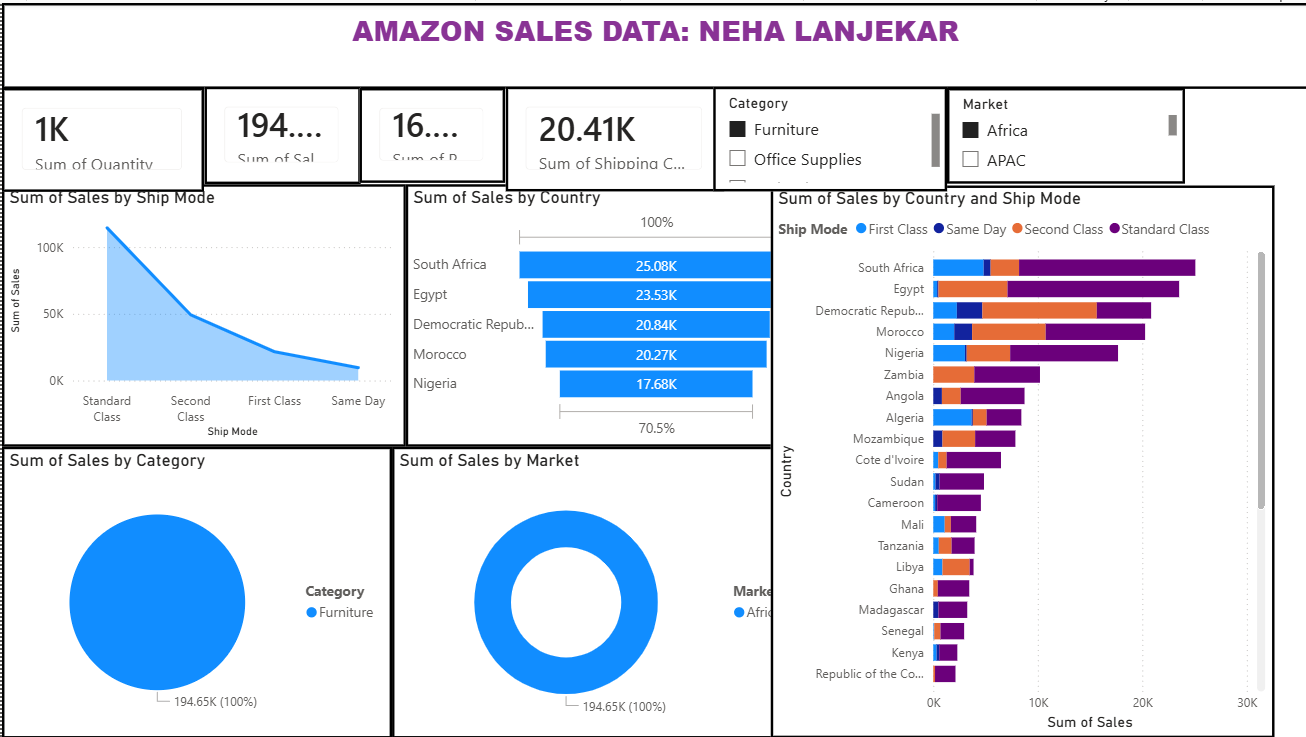

Layout of this report page (visuals, bound fields, positions):
{"tool":"powerbi","page":{"name":"Page 1","canvas":[1280,720],"ordinal":0},"visuals":[{"type":"donutChart","fields":{"Category":["Orders.Market"],"Y":["Sum(Orders.Sales)"]},"box":[381.5,433.6,406.2,286.8],"z":0},{"type":"pieChart","fields":{"Category":["Orders.Category"],"Y":["Sum(Orders.Sales)"]},"box":[0,433.6,381.5,286.8],"z":1000},{"type":"areaChart","fields":{"Category":["Orders.Ship Mode"],"Y":["Sum(Orders.Sales)"]},"box":[0,177,395.2,256.6],"z":2000},{"type":"funnel","fields":{"Category":["Orders.Country"],"Y":["Sum(Orders.Sales)"]},"box":[395.2,177,392.5,256.6],"z":3000},{"type":"barChart","fields":{"Category":["Orders.Country"],"Series":["Orders.Ship Mode"],"Y":["Sum(Orders.Sales)"]},"box":[752.5,178.8,492.5,541.2],"z":4000},{"type":"textbox","box":[0,0,1280,83.8],"z":5000},{"type":"cardVisual","fields":{"Data":["Sum(Orders.Quantity)"]},"box":[0,83.8,197.5,101.2],"z":6000},{"type":"cardVisual","fields":{"Data":["Sum(Orders.Sales)"]},"box":[197.5,82.5,152.5,95],"z":7000},{"type":"cardVisual","fields":{"Data":["Sum(Orders.Shipping Cost)"]},"box":[492.5,82.5,213.8,102.5],"z":8000},{"type":"cardVisual","fields":{"Data":["Sum(Orders.Profit)"]},"box":[350,83.8,142.5,92.5],"z":9000},{"type":"slicer","fields":{"Values":["Orders.Category"]},"box":[696.2,82.5,228.8,102.5],"z":10000},{"type":"slicer","fields":{"Values":["Orders.Market"]},"box":[925,83.8,232.5,93.8],"z":11000}]}

Visuals, with their boxes in screenshot pixels (x1, y1, x2, y2), scaled from the page's 1280x720 canvas onto the 1306x737 screenshot:
donutChart - Orders.Market x Sum(Orders.Sales): x1=389 y1=444 x2=804 y2=736
pieChart - Orders.Category x Sum(Orders.Sales): x1=0 y1=444 x2=389 y2=736
areaChart - Orders.Ship Mode x Sum(Orders.Sales): x1=0 y1=181 x2=403 y2=444
funnel - Orders.Country x Sum(Orders.Sales): x1=403 y1=181 x2=804 y2=444
barChart - Orders.Country x Orders.Ship Mode: x1=768 y1=183 x2=1270 y2=736
textbox: x1=0 y1=0 x2=1305 y2=86
cardVisual - Sum(Orders.Quantity): x1=0 y1=86 x2=202 y2=189
cardVisual - Sum(Orders.Sales): x1=202 y1=84 x2=357 y2=182
cardVisual - Sum(Orders.Shipping Cost): x1=503 y1=84 x2=721 y2=189
cardVisual - Sum(Orders.Profit): x1=357 y1=86 x2=503 y2=180
slicer - Orders.Category: x1=710 y1=84 x2=944 y2=189
slicer - Orders.Market: x1=944 y1=86 x2=1181 y2=182
